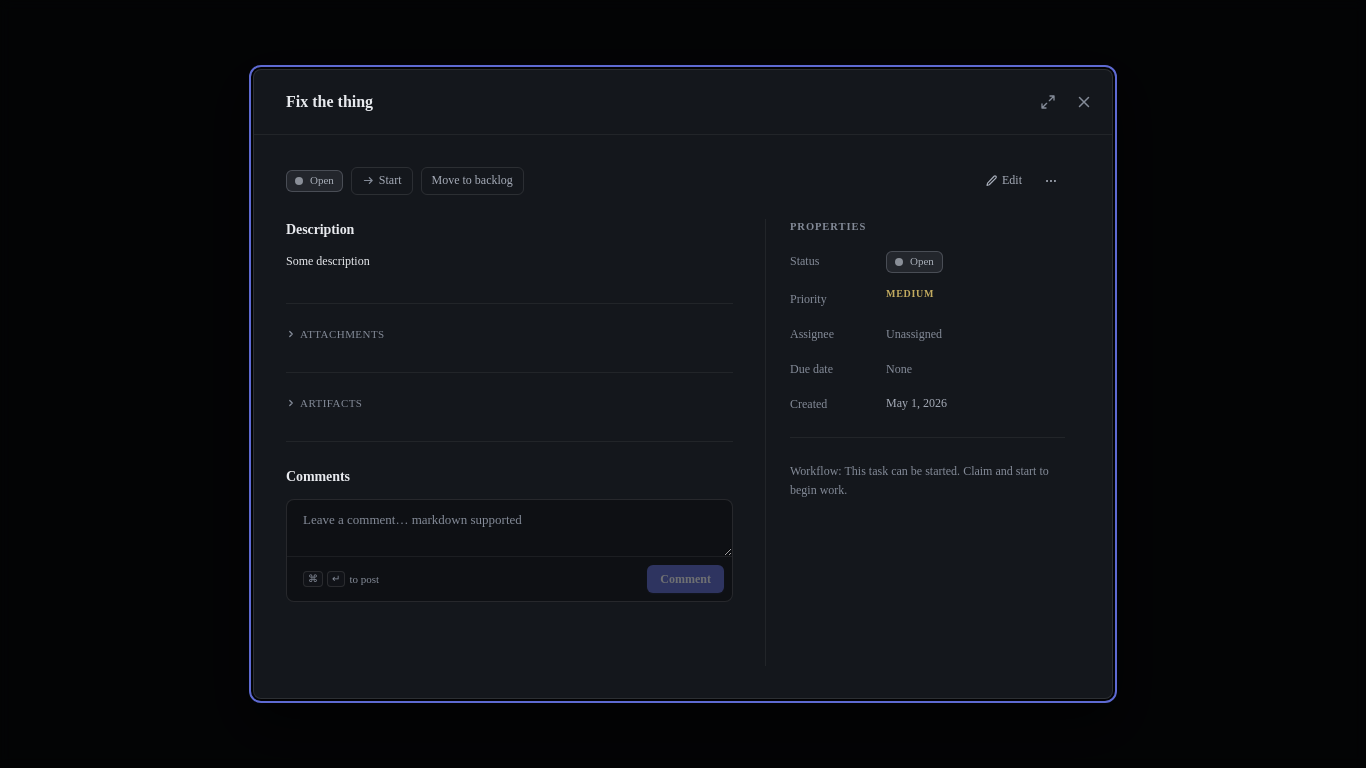
it: TaskDetail — variant › modal variant offers the admin status-override control from the More actions menu when isProjectAdmin
Click the button named "More actions": click(1051, 181) [1037, 167, 1065, 195]
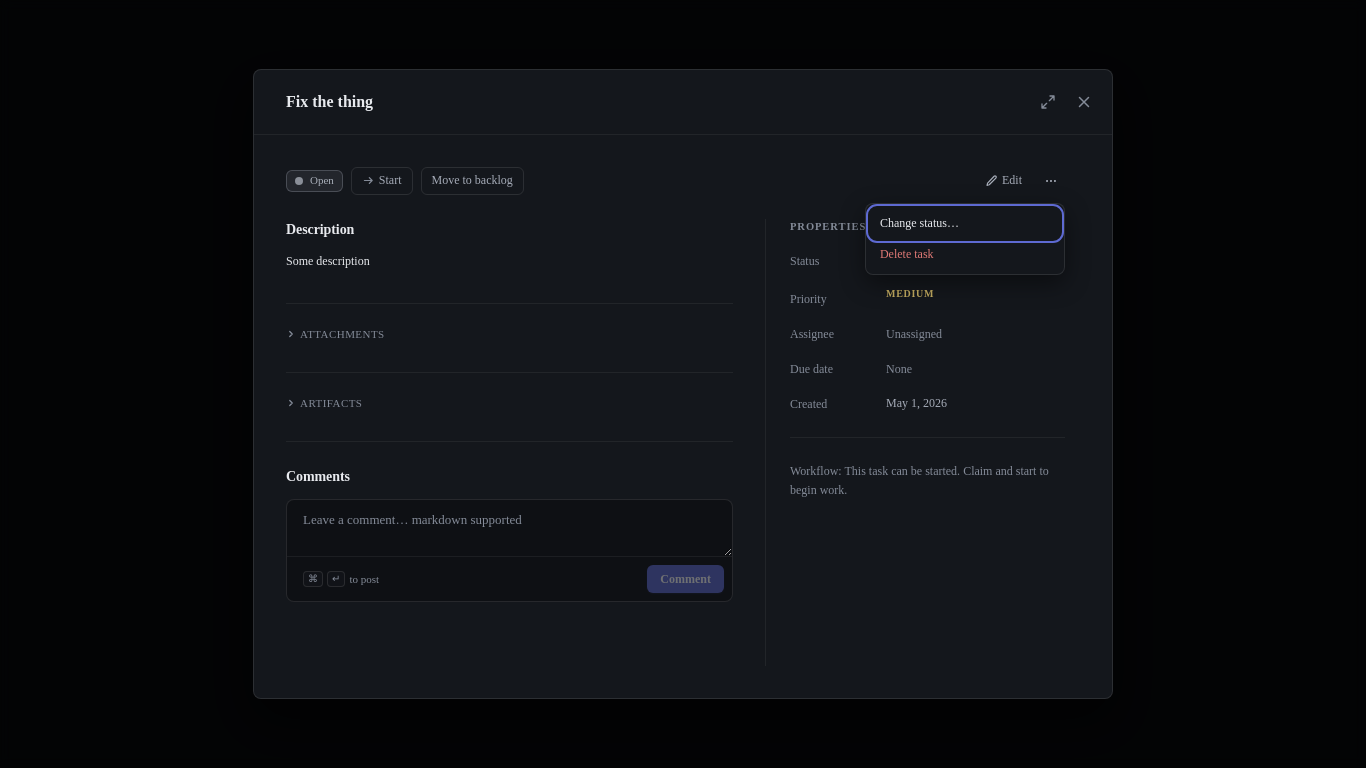
Click the button "Change status…": click(965, 223) [870, 208, 1060, 239]
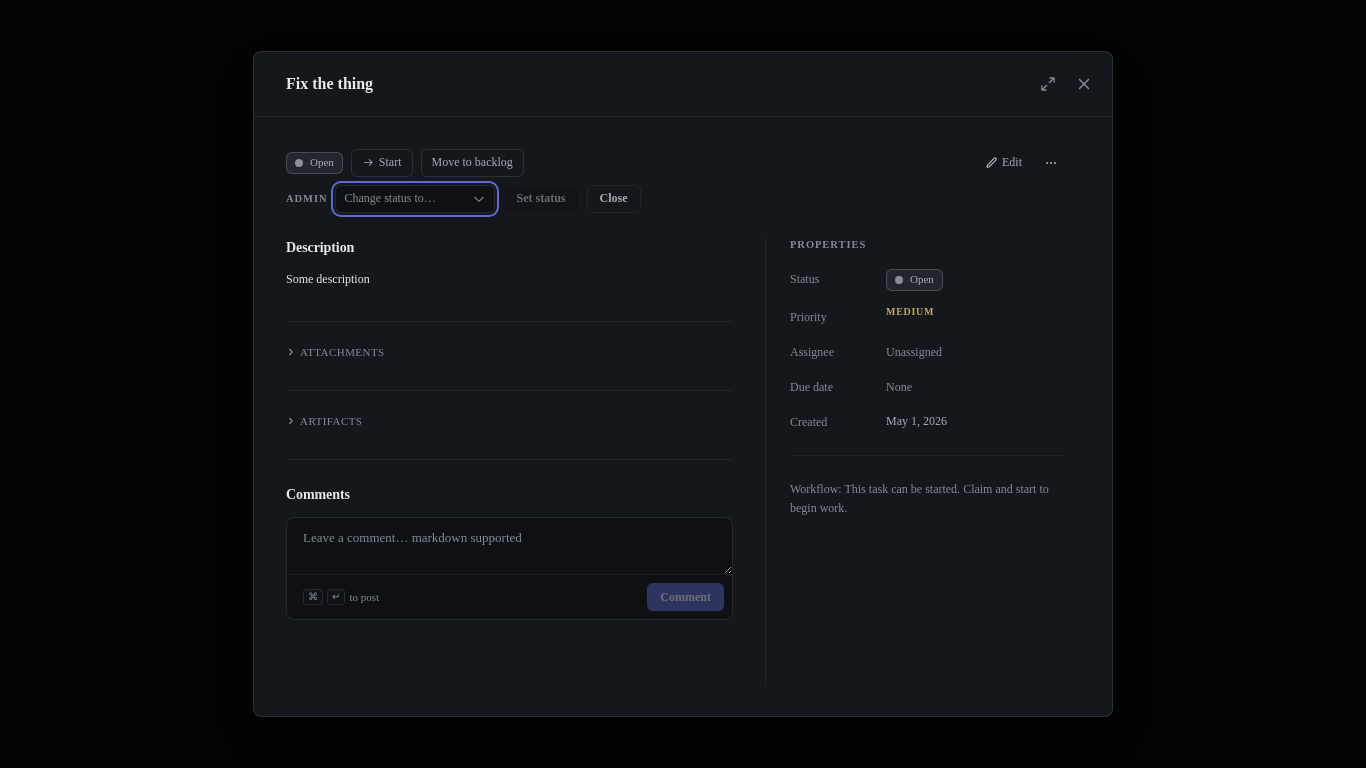
Expected: the dropdown named "Change task status (admin override)" is shown, [336, 185, 496, 213]
Expected: the button "Set status" is shown, [504, 185, 578, 213]
